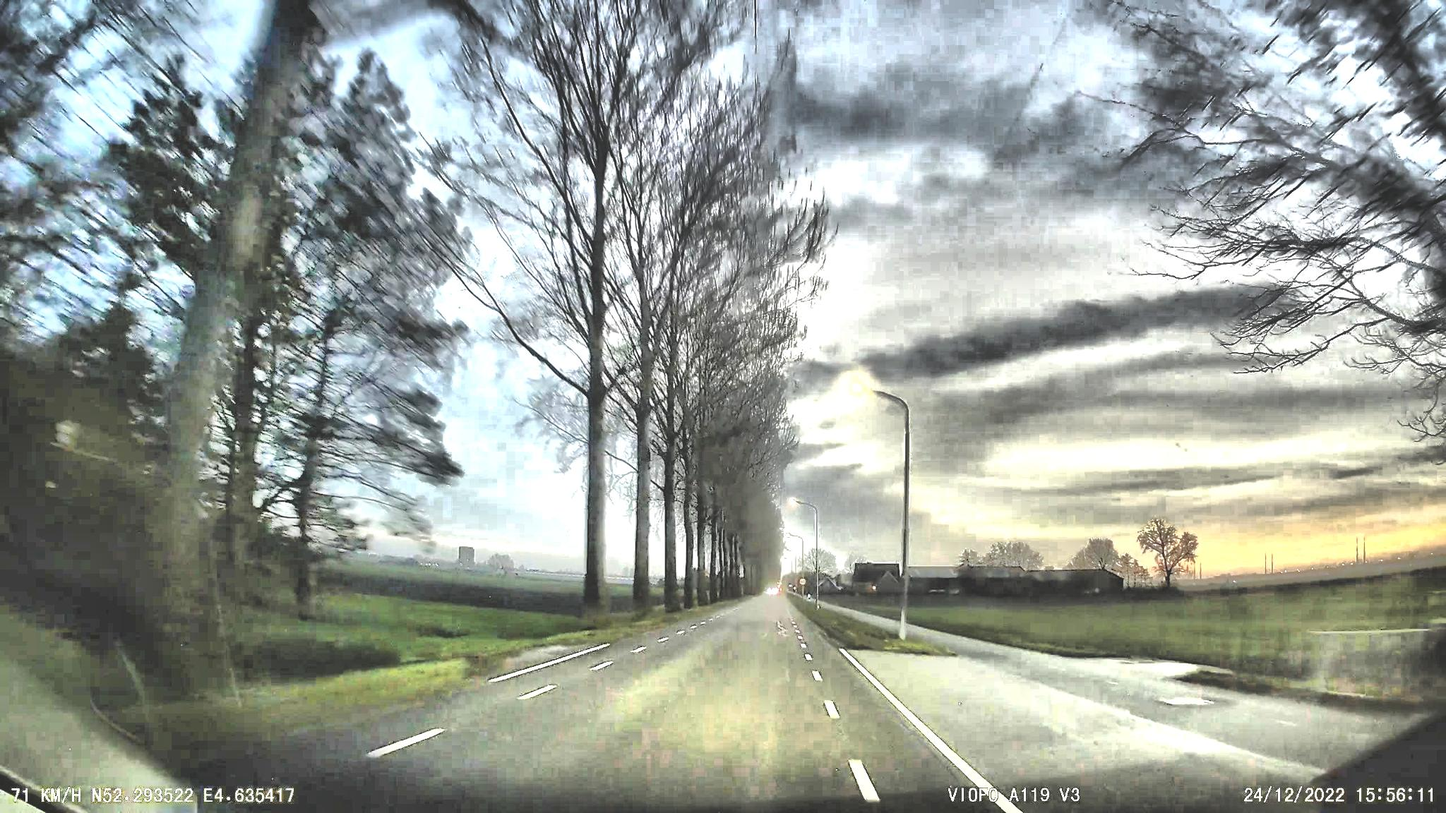Roads: (16, 595, 1446, 813)
